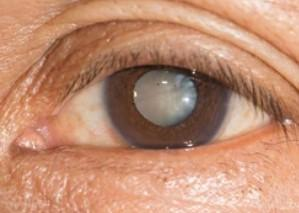eye: (104, 66, 232, 151)
